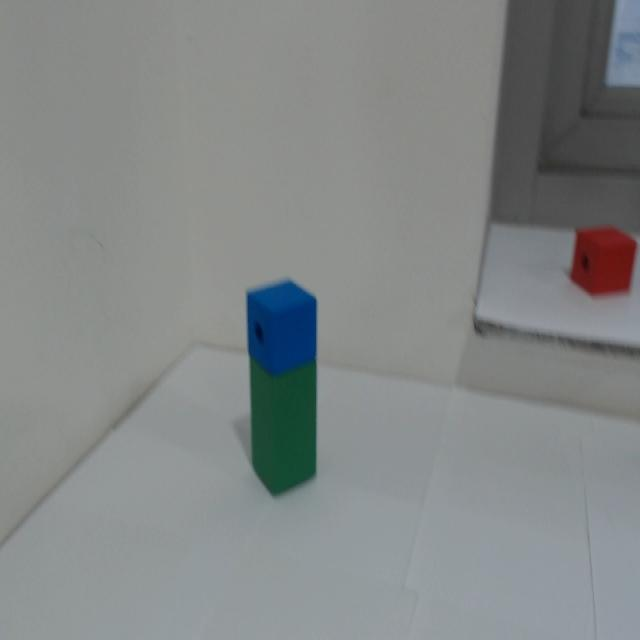cube: (238, 272, 336, 366)
